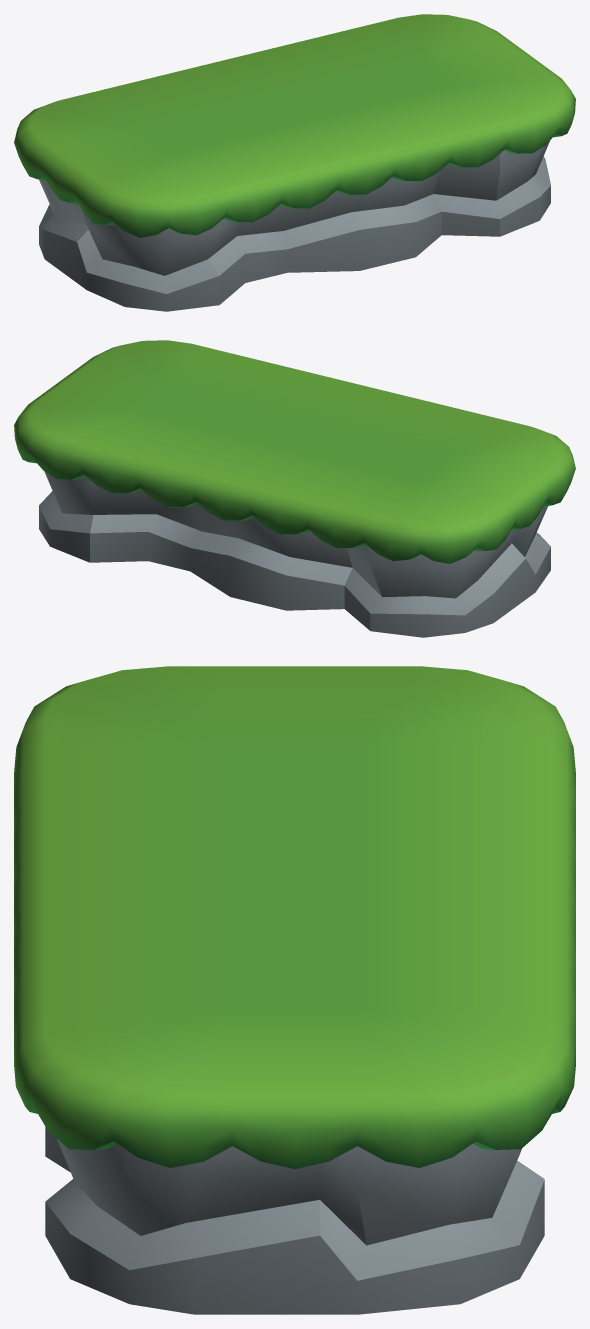
Rendered from Hill_8x4x2_Color1.gltf.
3 views of the same model, one above another, from view 1: azimuth 30°, elevation 25°; view 2: azimuth 150°, elevation 25°; view 3: azimuth 270°, elevation 25° (orthographic). The views are drawn at different scales.
Visible parts, largest first — view 1: Hill_8x4x2_Color1; view 2: Hill_8x4x2_Color1; view 3: Hill_8x4x2_Color1.
Part boxes in pixels (x1,y1,x2,y2): Hill_8x4x2_Color1: (14, 14, 575, 311); Hill_8x4x2_Color1: (14, 340, 575, 637); Hill_8x4x2_Color1: (14, 666, 575, 1314).
Size of the model in its own units: 8.5 by 2 by 4.5.
1 material, 1 textured.
